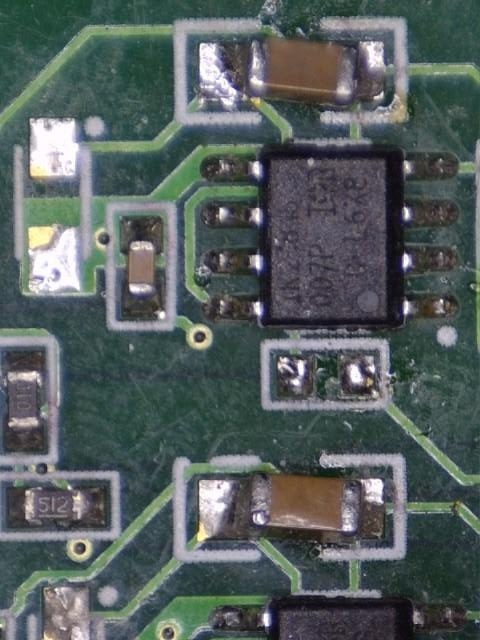pcb_defect: (197, 470, 387, 542), (197, 36, 385, 108)
